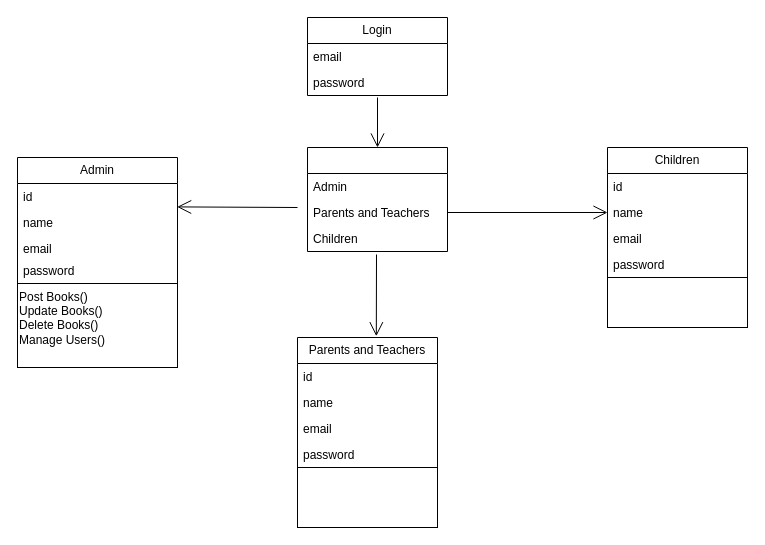
Some shapes in this 765 by 545 pixel diagram are drawn without their labels. Here are the shapes that lost their labels. From the top down, the box of each, then its label:
(306, 146, 448, 252): user type
(606, 276, 748, 328): ReadBooks()
(296, 466, 438, 528): ReadBooks() BuySubscription()
